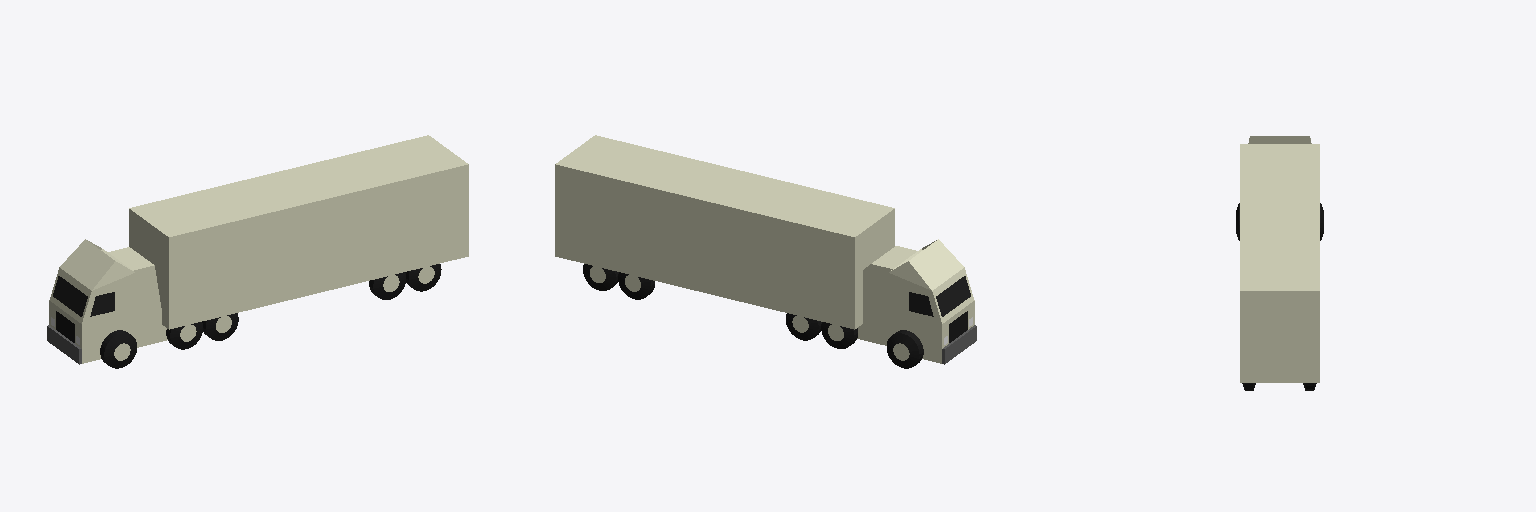
File: Truck.obj
3 views of the same model, side by side, from view 1: azimuth 30°, elevation 25°; view 2: azimuth 150°, elevation 25°; view 3: azimuth 270°, elevation 25° (orthographic).
Visible parts, largest first — view 1: Mesh11 Model, Mesh1 TireSemi1 Model, Mesh10 TireSemi10 Model, Mesh7 TireSemi7 Model, Mesh2 TireSemi2 Model, Mesh3 TireSemi3 Model; view 2: Mesh11 Model, Mesh6 TireSemi6 Model, Mesh8 TireSemi8 Model, Mesh9 TireSemi9 Model, Mesh4 TireSemi4 Model, Mesh5 TireSemi5 Model; view 3: Mesh11 Model.
Part boxes in pixels (bbox=[...]): Mesh11 Model: bbox=[47, 135, 468, 364]; Mesh1 TireSemi1 Model: bbox=[100, 330, 136, 368]; Mesh10 TireSemi10 Model: bbox=[369, 272, 405, 299]; Mesh7 TireSemi7 Model: bbox=[166, 322, 202, 349]; Mesh2 TireSemi2 Model: bbox=[202, 313, 238, 340]; Mesh3 TireSemi3 Model: bbox=[405, 264, 441, 291]; Mesh11 Model: bbox=[555, 135, 976, 364]; Mesh6 TireSemi6 Model: bbox=[887, 330, 923, 368]; Mesh8 TireSemi8 Model: bbox=[821, 322, 857, 348]; Mesh9 TireSemi9 Model: bbox=[618, 272, 654, 299]; Mesh4 TireSemi4 Model: bbox=[786, 313, 821, 340]; Mesh5 TireSemi5 Model: bbox=[583, 264, 618, 290]; Mesh11 Model: bbox=[1240, 136, 1319, 382].
Size of the model in its own units: 631 by 185 by 126.